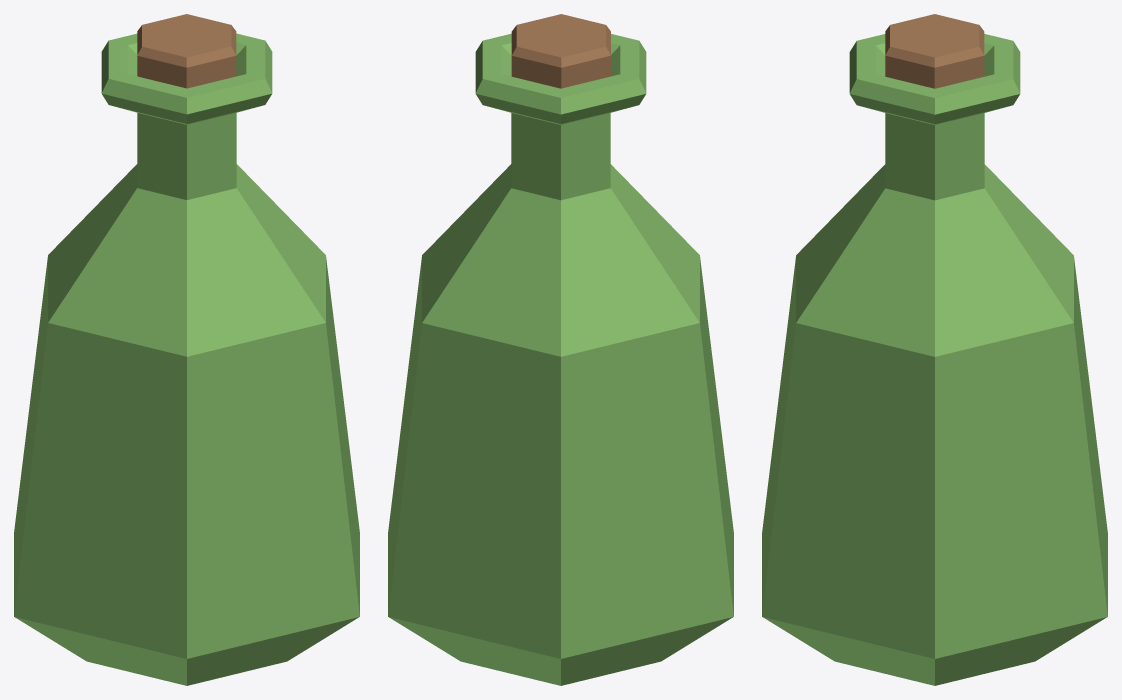
File: Green_Potion_7.fbx
3 views of the same model, side by side, from view 1: azimuth 30°, elevation 25°; view 2: azimuth 150°, elevation 25°; view 3: azimuth 270°, elevation 25° (orthographic).
Visible parts, largest first — view 1: Green_Potion_7; view 2: Green_Potion_7; view 3: Green_Potion_7.
Part boxes in pixels (left/top/right/bottom): Green_Potion_7: left=14, top=14, right=359, bottom=685; Green_Potion_7: left=388, top=14, right=733, bottom=685; Green_Potion_7: left=762, top=14, right=1107, bottom=685.
Size of the model in its own units: 20.48 by 34.03 by 17.74.
